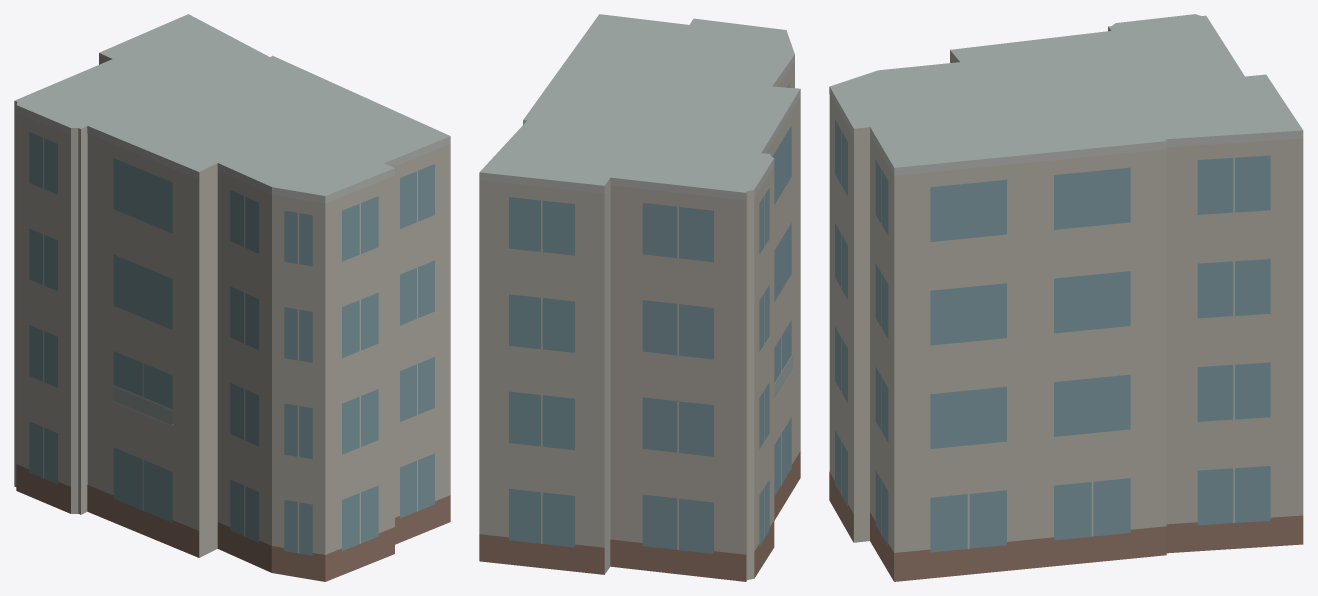
File: survey-upis-32473418.glb
3 views of the same model, side by side, from view 1: azimuth 30°, elevation 25°; view 2: azimuth 150°, elevation 25°; view 3: azimuth 270°, elevation 25° (orthographic). The views are drawn at different scales.
Parts seen in each view (by area): view 1: survey-upis-32473418.tmp; view 2: survey-upis-32473418.tmp; view 3: survey-upis-32473418.tmp.
Part boxes in pixels (bbox=[...]): survey-upis-32473418.tmp: bbox=[14, 14, 450, 581]; survey-upis-32473418.tmp: bbox=[479, 14, 800, 581]; survey-upis-32473418.tmp: bbox=[829, 14, 1303, 581].
Size of the model in its own units: 10.01 by 12.55 by 13.03.
